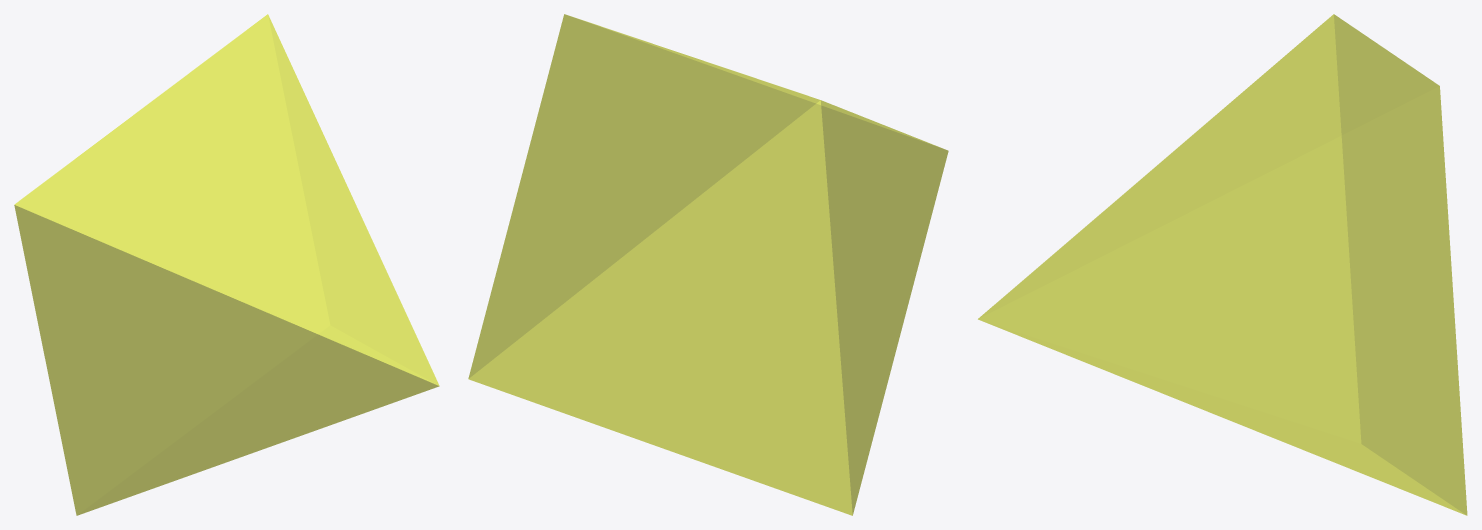
File: piramide2.glb
3 views of the same model, side by side, from view 1: azimuth 30°, elevation 25°; view 2: azimuth 150°, elevation 25°; view 3: azimuth 270°, elevation 25° (orthographic). The views are drawn at different scales.
Bounding box in the file's own units: 3.74 × 4.03 × 3.7.
